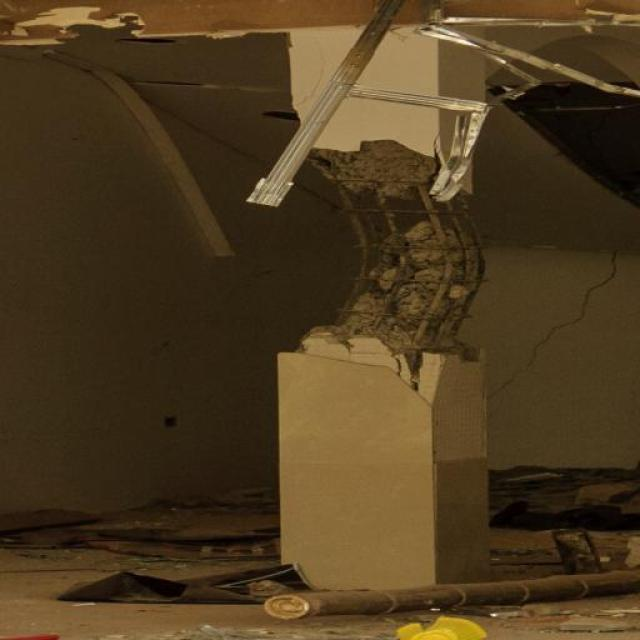D0w0: (310, 140, 484, 359)
